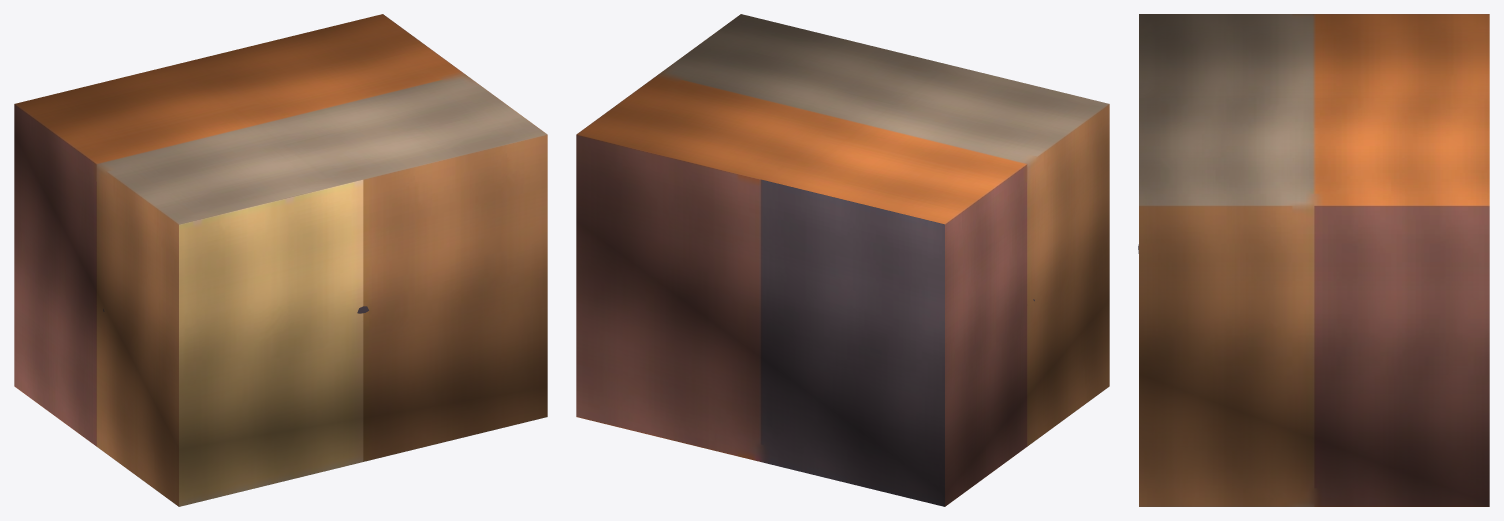
File: rock_volcanic_a.glb
3 renders of one model, left to right at view 1: azimuth 30°, elevation 25°; view 2: azimuth 150°, elevation 25°; view 3: azimuth 270°, elevation 25°, orthographic. The views are drawn at different scales.
Parts seen in each view (by area): view 1: col; view 2: col; view 3: col.
Part boxes in pixels (x1=…): col: x1=14, y1=14, x2=547, y2=506; col: x1=576, y1=14, x2=1109, y2=506; col: x1=1139, y1=14, x2=1489, y2=506.
Size of the model in its own units: 2.15 by 1.58 by 1.67.
1 material, 1 textured.
